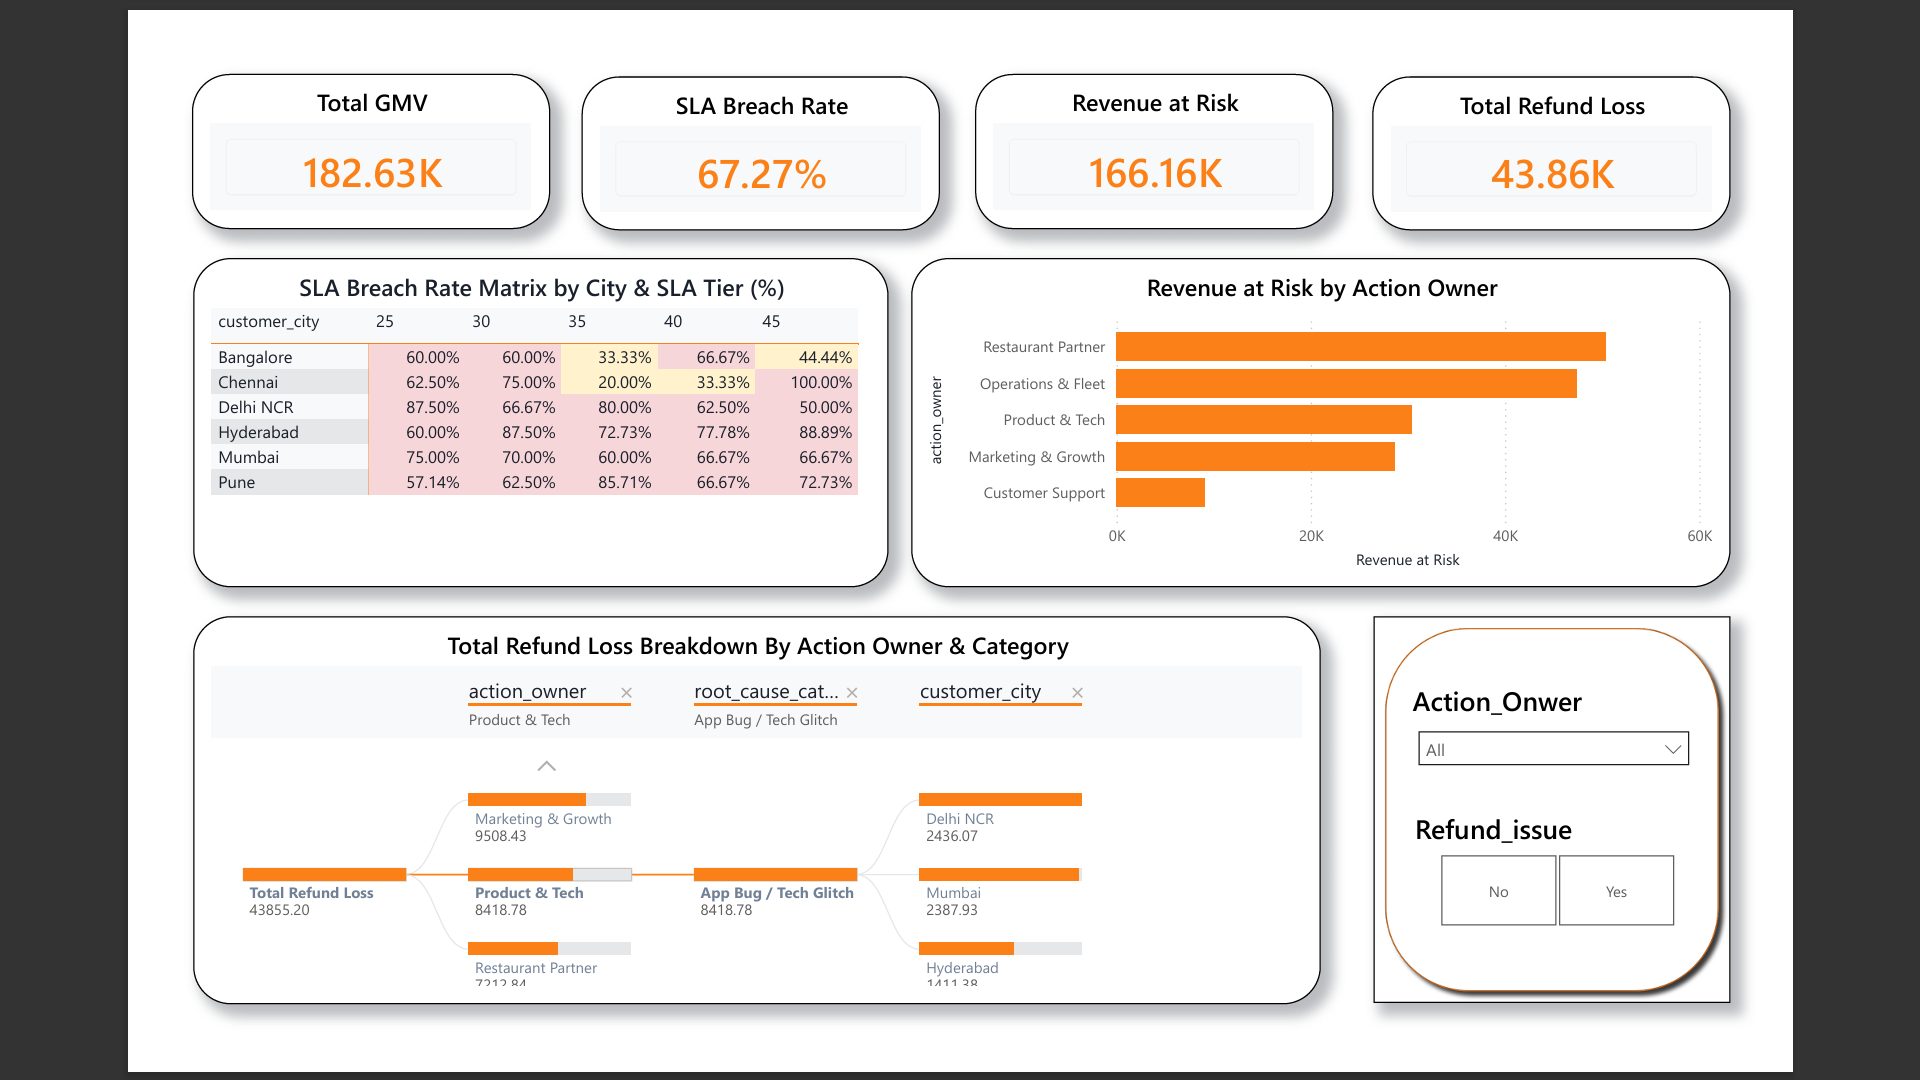

The dashboard page shown, as its layout file describes it:
{"tool":"powerbi","page":{"name":"Business Analyst View","canvas":[1280,800],"ordinal":1},"visuals":[{"type":"cardVisual","title":"Total GMV","fields":{"Data":["swiggy_analytics_vw_swiggy_operational_kpis.Total GMV"]},"box":[27.4,27.4,286.1,123.2],"z":0},{"type":"cardVisual","title":"SLA Breach Rate","fields":{"Data":["swiggy_analytics_vw_swiggy_operational_kpis.SLA Breach Rate %"]},"box":[338.4,28.6,286.1,123.2],"z":1000},{"type":"cardVisual","title":"Revenue at Risk","fields":{"Data":["swiggy_analytics_vw_swiggy_operational_kpis.Revenue at Risk"]},"box":[651.8,27.4,286.1,123.2],"z":2000},{"type":"cardVisual","title":"Total Refund Loss","fields":{"Data":["swiggy_analytics_vw_swiggy_operational_kpis.Total Refund Loss"]},"box":[969,28.6,286.1,123.2],"z":3000},{"type":"pivotTable","title":"SLA Breach Rate Matrix by City & SLA Tier (%)","fields":{"Rows":["swiggy_analytics_vw_swiggy_operational_kpis.customer_city"],"Columns":["swiggy_analytics_vw_swiggy_operational_kpis.promised_delivery_time_mins"],"Values":["swiggy_analytics_vw_swiggy_operational_kpis.SLA Breach Rate %"]},"box":[28,174.2,555.1,262.8],"z":4000},{"type":"clusteredBarChart","title":"Revenue at Risk by Action Owner","fields":{"Category":["swiggy_analytics_vw_swiggy_operational_kpis.action_owner"],"Y":["swiggy_analytics_vw_swiggy_operational_kpis.Revenue at Risk"]},"box":[600.8,174.2,654.3,262.5],"z":5000},{"type":"decompositionTreeVisual","title":"Total Refund Loss Breakdown By Action Owner & Category","fields":{"Analyze":["swiggy_analytics_vw_swiggy_operational_kpis.Total Refund Loss"],"ExplainBy":["swiggy_analytics_vw_swiggy_operational_kpis.action_owner","swiggy_analytics_vw_swiggy_operational_kpis.root_cause_category","swiggy_analytics_vw_swiggy_operational_kpis.customer_city"]},"box":[28.3,460.4,900,309.4],"z":6000},{"type":"group","id":"g1","title":"Group 1","box":[969.8,460.4,284.9,309.4],"z":7000},{"type":"shape","box":[969.8,460.4,284.9,309.4],"z":9500,"group":"g1"},{"type":"slicer","title":"Action_Onwer","fields":{"Values":["swiggy_analytics_vw_swiggy_operational_kpis.action_owner"]},"box":[996.2,513.3,235.8,101.8],"z":10000,"group":"g1"},{"type":"slicer","title":"Refund_issue","fields":{"Values":["swiggy_analytics_vw_swiggy_operational_kpis.refund_issued"]},"box":[998.1,615.1,235.8,99.8],"z":11000,"group":"g1"}]}

Visuals, with their boxes on the page's 1280x800 design canvas (x1, y1, x2, y2). These are canvas units, not pixel positions in the 1920x1080 screenshot, which may show the page scaled, cropped or inside an application window:
"Total GMV" cardVisual: bbox=(27, 27, 314, 151)
"SLA Breach Rate" cardVisual: bbox=(338, 29, 624, 152)
"Revenue at Risk" cardVisual: bbox=(652, 27, 938, 151)
"Total Refund Loss" cardVisual: bbox=(969, 29, 1255, 152)
"SLA Breach Rate Matrix by City & SLA Tier (%)" pivotTable: bbox=(28, 174, 583, 437)
"Revenue at Risk by Action Owner" clusteredBarChart: bbox=(601, 174, 1255, 437)
"Total Refund Loss Breakdown By Action Owner & Category" decompositionTreeVisual: bbox=(28, 460, 928, 770)
"Group 1" group: bbox=(970, 460, 1255, 770)
shape: bbox=(970, 460, 1255, 770)
"Action_Onwer" slicer: bbox=(996, 513, 1232, 615)
"Refund_issue" slicer: bbox=(998, 615, 1234, 715)
